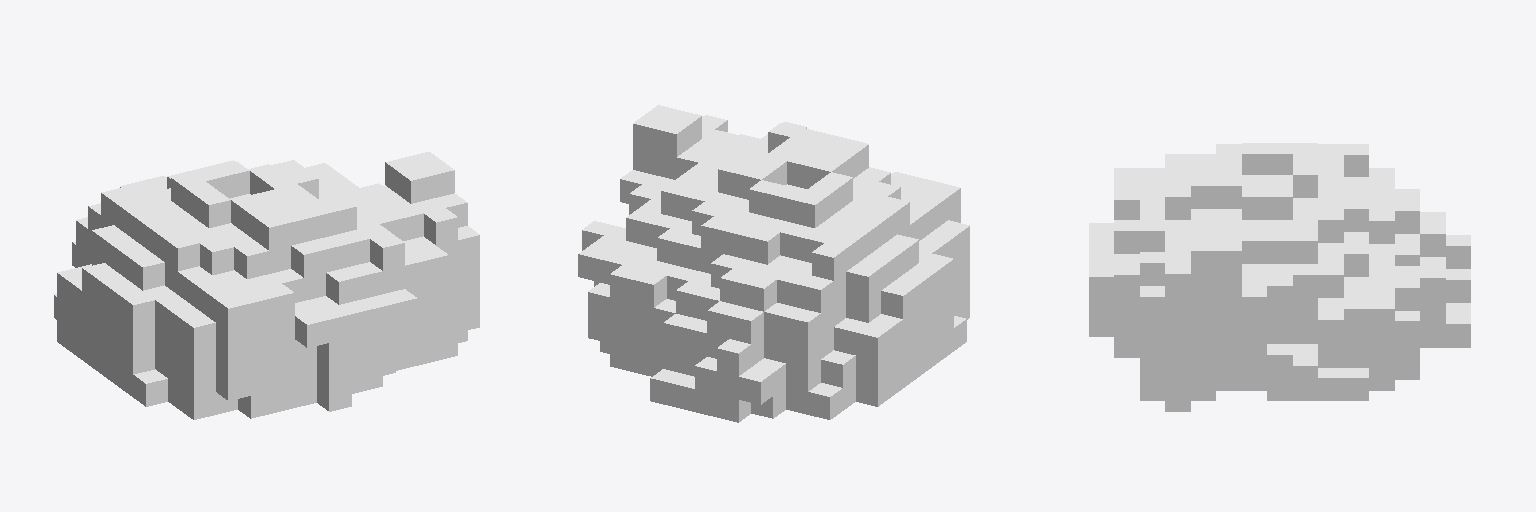
File: rock-smol-1.obj
The picture shows the model from 3 angles: view 1: azimuth 30°, elevation 25°; view 2: azimuth 150°, elevation 25°; view 3: azimuth 270°, elevation 25°; orthographic projection.
Parts seen in each view (by area): view 1: object 1; view 2: object 1; view 3: object 1.
Part boxes in pixels (bbox=[...]): object 1: bbox=[54, 152, 479, 419]; object 1: bbox=[578, 105, 969, 422]; object 1: bbox=[1089, 143, 1470, 411].
Bounding box in the file's own units: 1.4 × 0.7 × 1.5.